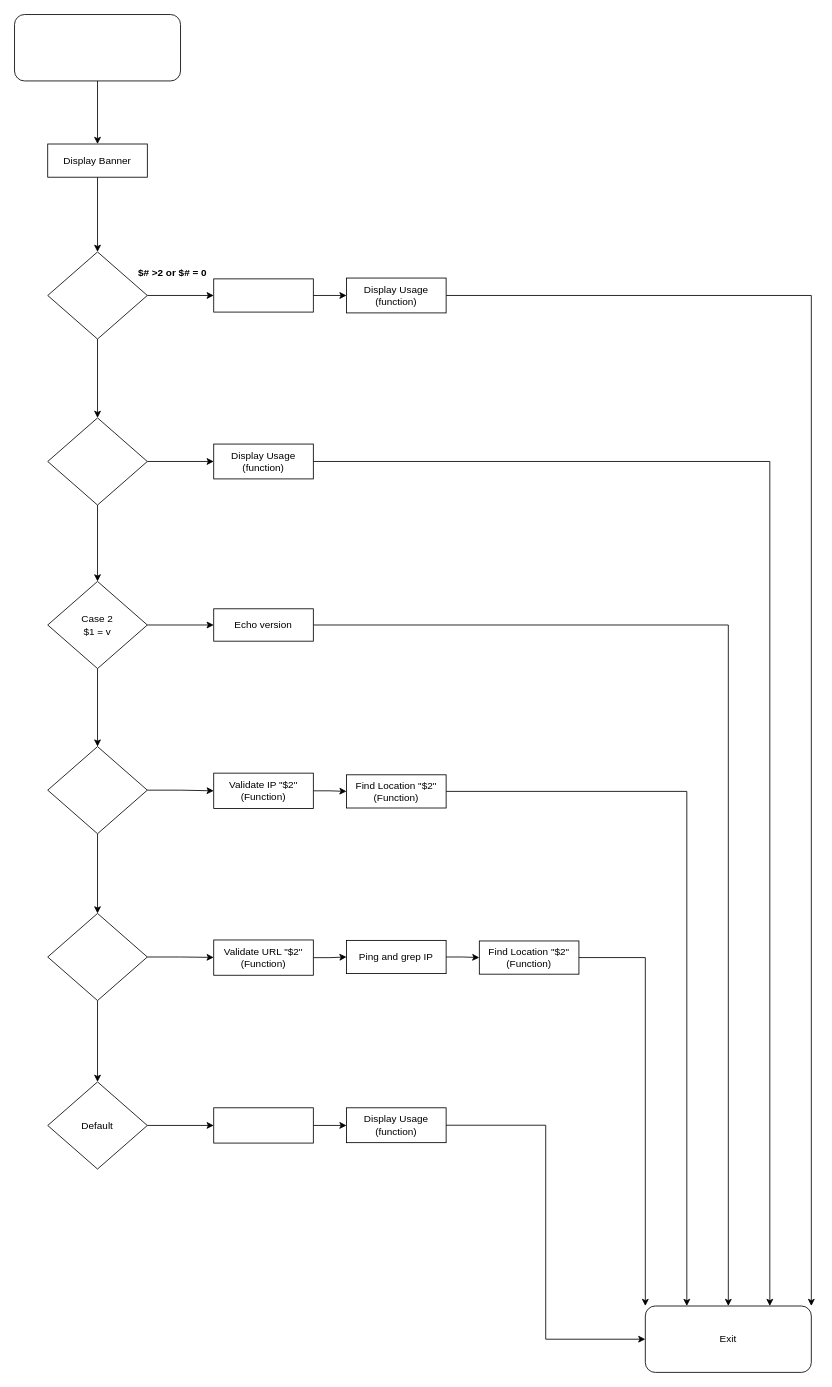
Some shapes in this 832 by 1387 pixel diagram are drawn without their labels. The centre of each missing label's shape, as x and y in pixels:
Case 1 $1 = h: point (97, 461)
Case 3 $1 = -i: point (97, 790)
Case 4 $1 = -u: point (97, 957)
Check Arguments (function): point (97, 295)
Echo "Unknow option": point (263, 1125)
Error Massage: point (263, 295)
Start: point (97, 47)
